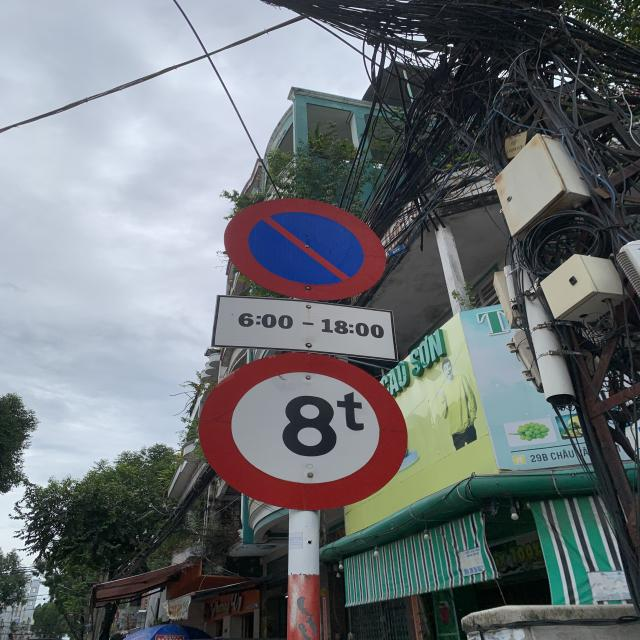Cam_Dau_Xe: (224, 195, 387, 302)
